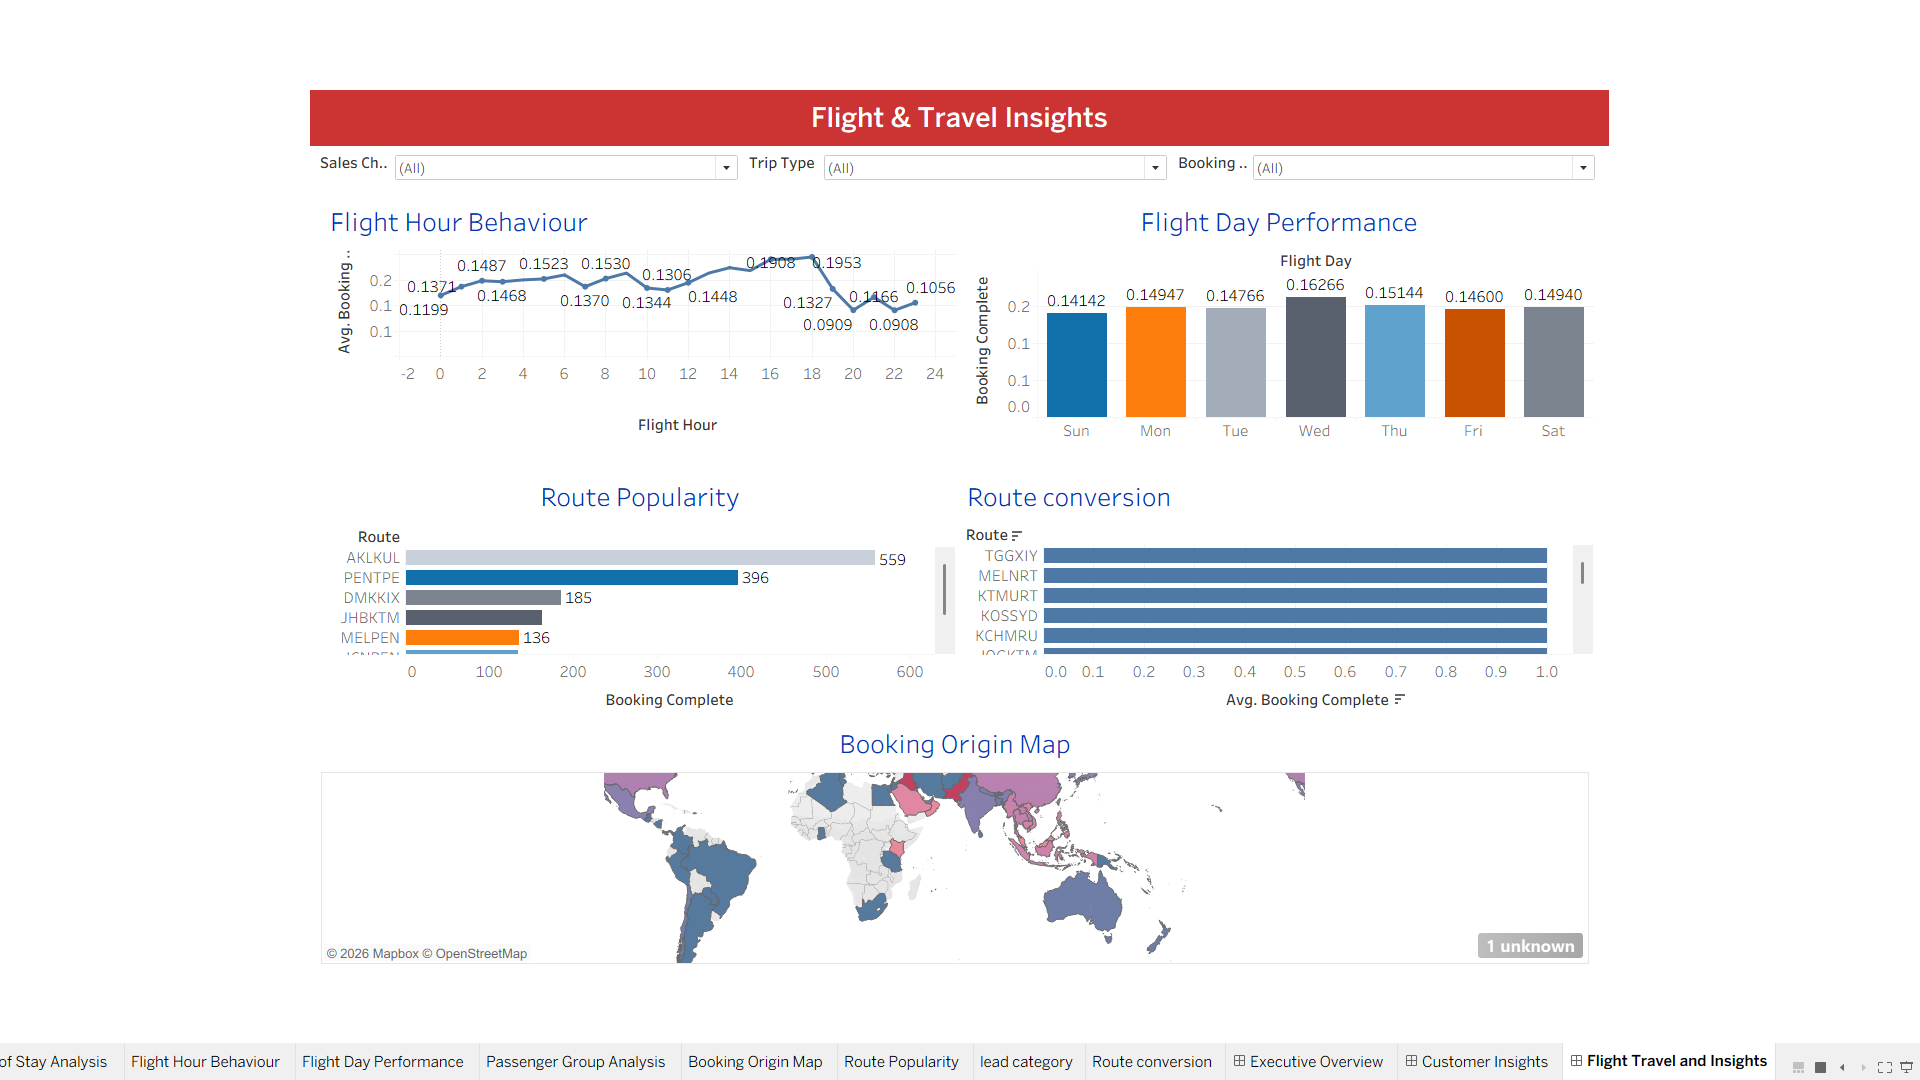

The dashboard page shown, as its layout file describes it:
{"tool":"tableau","page":{"name":"Flight Travel and Insights","canvas":[1300,900],"ordinal":2},"visuals":[{"type":"text","box":[0,19,1299,56]},{"type":"worksheet","title":"Sales Channel Performance","mark":"Bar","rows":["booking_complete"],"cols":["sales_channel"],"box":[8,33,433,5]},{"type":"filter","title":"Sales Channel Performance","param":"[federated.0qj7os00s5qz081g934kt1tfog1x].[none:sales_channel:nk]","box":[6,77,429,43]},{"type":"filter","title":"Sales Channel Performance","param":"[federated.0qj7os00s5qz081g934kt1tfog1x].[none:trip_type:nk]","box":[435,77,429,43]},{"type":"filter","title":"Sales Channel Performance","param":"[federated.0qj7os00s5qz081g934kt1tfog1x].[none:booking_origin:nk]","box":[864,77,428,43]},{"type":"worksheet","title":"Flight Hour Behaviour","mark":"Line","rows":["booking_complete"],"cols":["flight_hour"],"box":[12,125,638,250]},{"type":"worksheet","title":"Flight Day Performance","mark":"Bar","rows":["booking_complete"],"cols":["flight_day"],"box":[650,125,638,250]},{"type":"worksheet","title":"Route Popularity","mark":"Bar","rows":["route"],"cols":["booking_complete"],"box":[11,400,638,250]},{"type":"worksheet","title":"Route conversion","mark":"Bar","rows":["route"],"cols":["booking_complete"],"box":[649,400,638,250]},{"type":"worksheet","title":"Booking Origin Map","mark":"Multipolygon","box":[7,647,1276,250]}]}

Visuals, with their boxes on the page's 1300x900 design canvas (x1, y1, x2, y2). These are canvas units, not pixel positions in the 1920x1080 screenshot, which may show the page scaled, cropped or inside an application window:
text: <box>0,19,1299,75</box>
"Sales Channel Performance" worksheet (Bar marks): <box>8,33,441,38</box>
"Sales Channel Performance" filter: <box>6,77,435,120</box>
"Sales Channel Performance" filter: <box>435,77,864,120</box>
"Sales Channel Performance" filter: <box>864,77,1292,120</box>
"Flight Hour Behaviour" worksheet (Line marks): <box>12,125,650,375</box>
"Flight Day Performance" worksheet (Bar marks): <box>650,125,1288,375</box>
"Route Popularity" worksheet (Bar marks): <box>11,400,649,650</box>
"Route conversion" worksheet (Bar marks): <box>649,400,1287,650</box>
"Booking Origin Map" worksheet (Multipolygon marks): <box>7,647,1283,897</box>
